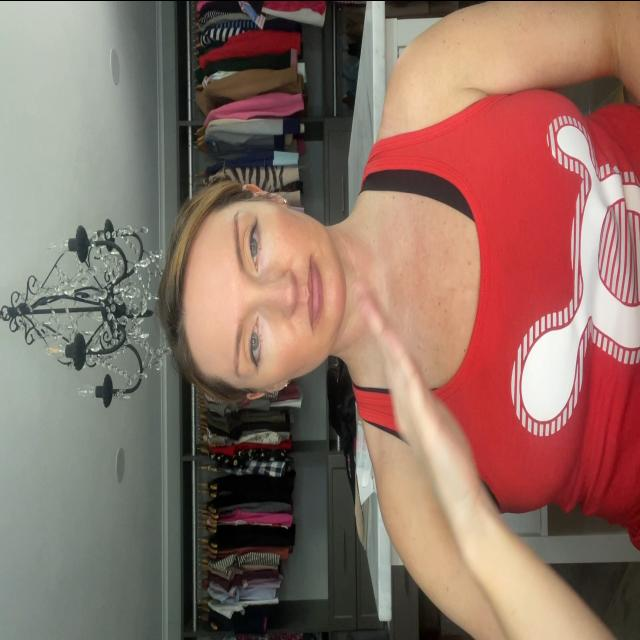Paper: (360, 289, 485, 539)
